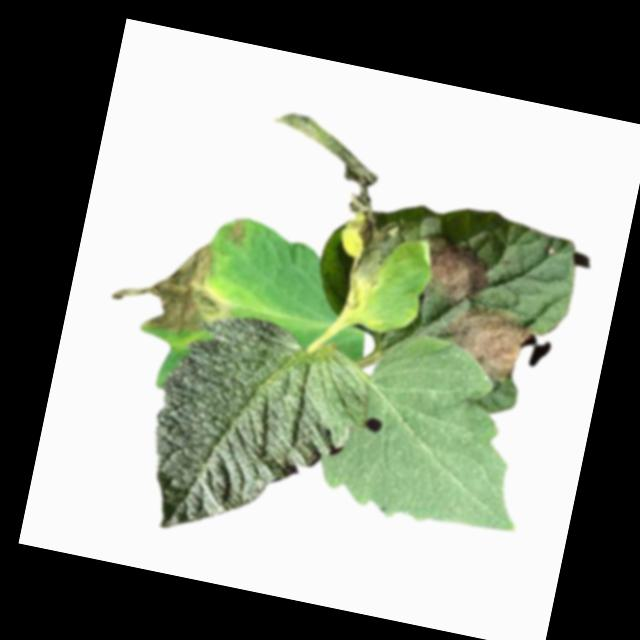Late_blight: (239, 108, 423, 308), (106, 226, 237, 344), (435, 301, 539, 394), (412, 231, 502, 312), (222, 215, 251, 249)
healthy: (133, 302, 380, 564)
